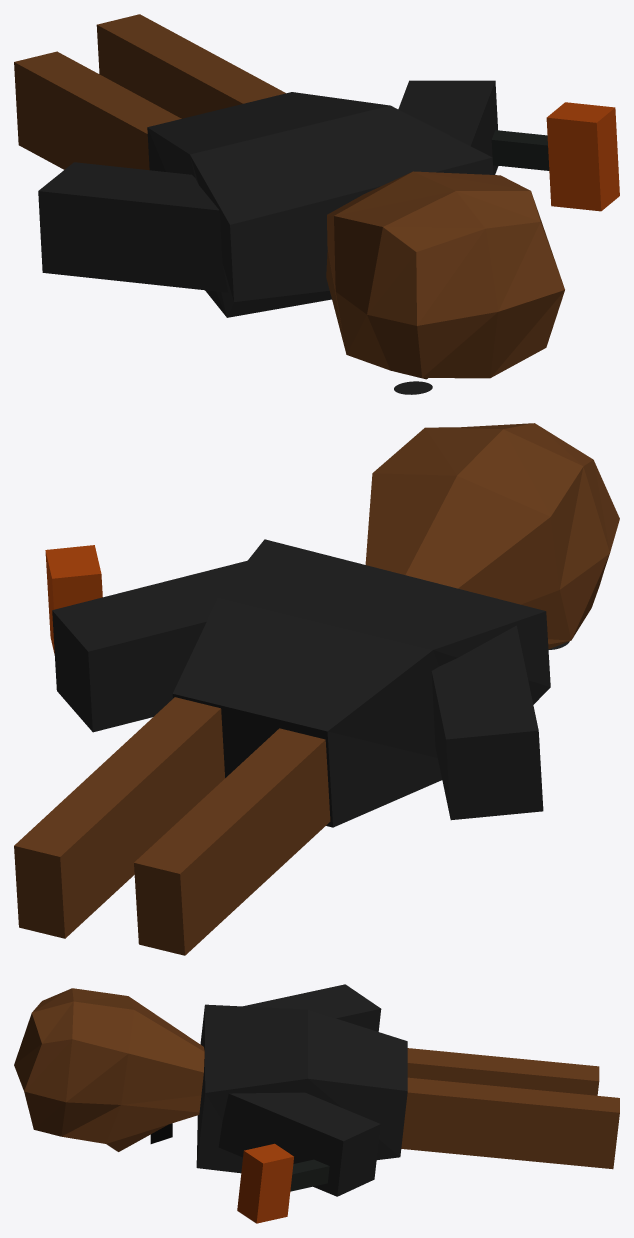
File: servant3d.obj
3 views of the same model, one above another, from view 1: azimuth 30°, elevation 25°; view 2: azimuth 150°, elevation 25°; view 3: azimuth 270°, elevation 25° (orthographic). The views are drawn at different scales.
Visible parts, largest first — view 1: Cube, Cube.001, Cube.003, Cube.004, Cube.005, Cube.008, Cube.002, Cube.007; view 2: Cube.001, Cube, Cube.005, Cube.004, Cube.002, Cube.003, Cube.008; view 3: Cube, Cube.001, Cube.005, Cube.002, Cube.004, Cube.008, Cube.003, Cube.007.
Part boxes in pixels (bbox=[...]): Cube: bbox=[326, 171, 564, 379]; Cube.001: bbox=[147, 92, 492, 317]; Cube.003: bbox=[38, 162, 228, 292]; Cube.004: bbox=[14, 51, 181, 170]; Cube.005: bbox=[96, 14, 285, 118]; Cube.008: bbox=[546, 102, 619, 211]; Cube.002: bbox=[398, 80, 498, 174]; Cube.007: bbox=[491, 130, 549, 170]; Cube.001: bbox=[172, 539, 550, 827]; Cube: bbox=[365, 423, 619, 648]; Cube.005: bbox=[14, 697, 224, 938]; Cube.004: bbox=[134, 728, 330, 955]; Cube.002: bbox=[52, 561, 246, 732]; Cube.003: bbox=[431, 625, 543, 820]; Cube.008: bbox=[45, 545, 102, 653]; Cube: bbox=[14, 988, 204, 1151]; Cube.001: bbox=[196, 1004, 407, 1173]; Cube.005: bbox=[401, 1077, 619, 1169]; Cube.002: bbox=[218, 1092, 380, 1196]; Cube.004: bbox=[407, 1048, 599, 1095]; Cube.008: bbox=[237, 1143, 293, 1223]; Cube.003: bbox=[243, 984, 381, 1031]; Cube.007: bbox=[290, 1159, 329, 1191].
Bounding box in the file's own units: 4.16 × 1.63 × 5.95.
